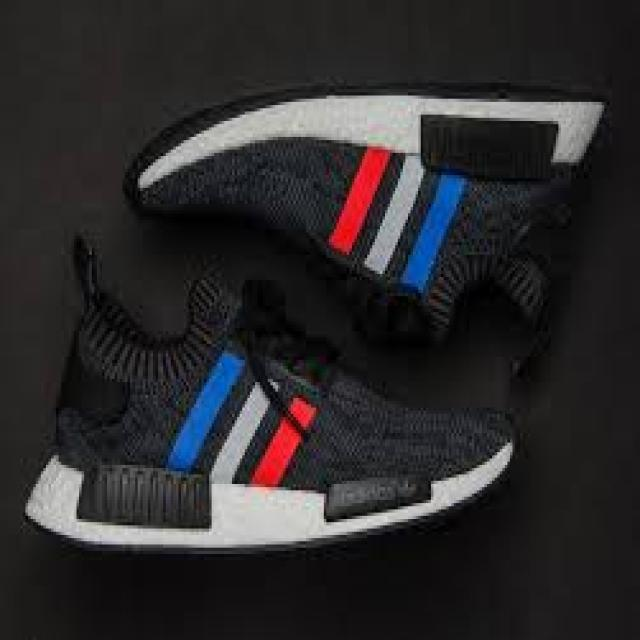shoe: (25, 94, 608, 538), (22, 231, 510, 555)
